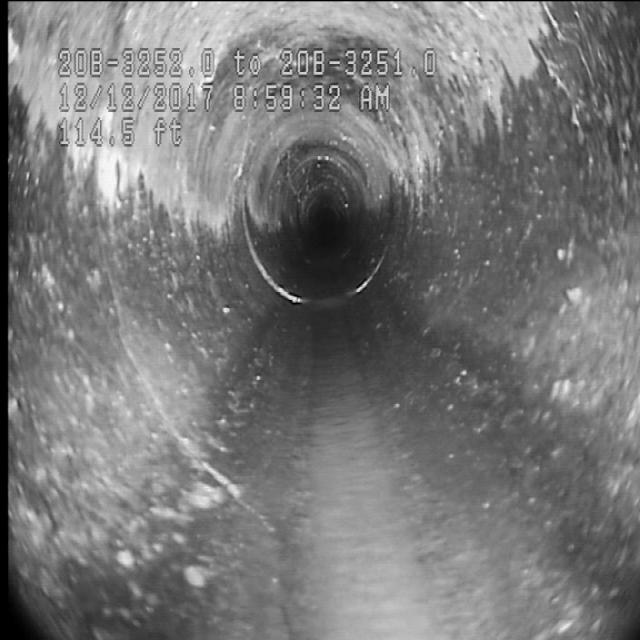Crack: (102, 253, 217, 528)
